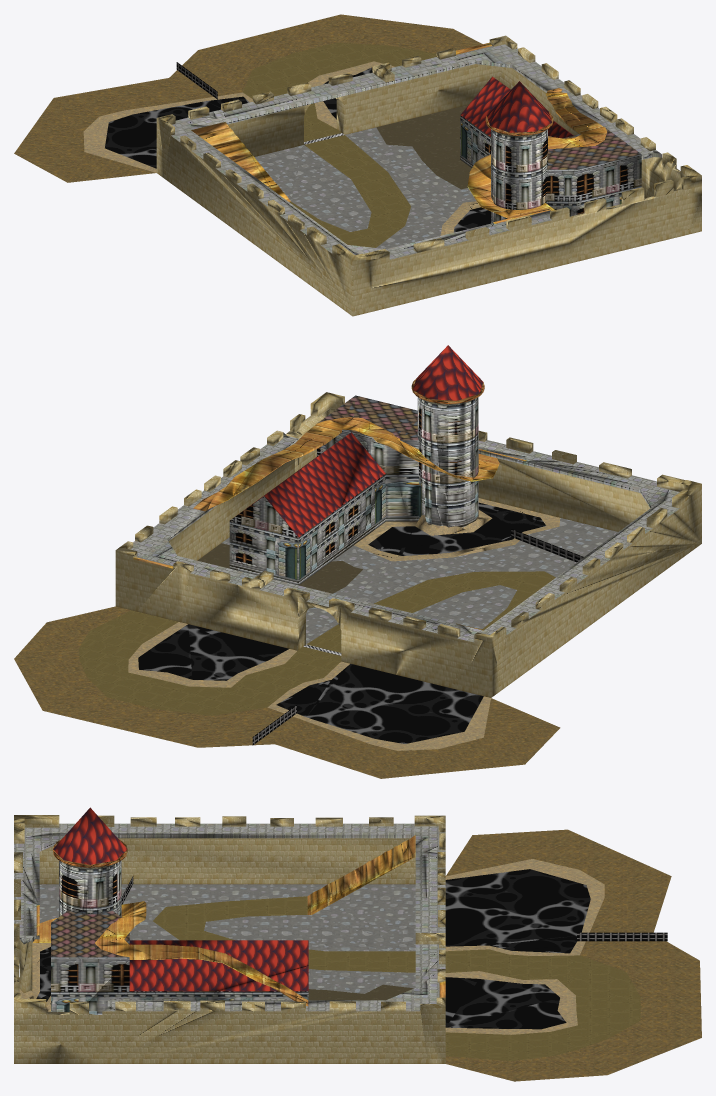
3 views of the same model, one above another, from view 1: azimuth 30°, elevation 25°; view 2: azimuth 150°, elevation 25°; view 3: azimuth 270°, elevation 25° (orthographic). The views are drawn at different scales.
Parts seen in each view (by area): view 1: polygon3.026, polygon179.002, polygon1.029, polygon146.003, polygon144.002, polygon44.003, polygon9.024, polygon145.003, polygon23.014, polygon2.023, polygon13.026, polygon147.002; view 2: polygon3.026, polygon179.002, polygon44.003, polygon23.014, polygon144.002, polygon1.029, polygon146.003, polygon2.023, polygon13.026, polygon9.024, polygon147.002, polygon145.003; view 3: polygon3.026, polygon179.002, polygon144.002, polygon23.014, polygon1.029, polygon146.003, polygon2.023, polygon44.003, polygon9.024, polygon13.026, polygon147.002, polygon145.003 (+1 smaller).
Boxes of the visible parts, box(x1,y1,x2,y2) form: polygon3.026: box(156, 35, 701, 316); polygon179.002: box(14, 14, 482, 182); polygon1.029: box(254, 127, 476, 248); polygon146.003: box(171, 44, 661, 259); polygon144.002: box(243, 42, 436, 247); polygon44.003: box(460, 112, 641, 223); polygon9.024: box(191, 88, 606, 218); polygon145.003: box(376, 105, 471, 189); polygon23.014: box(105, 67, 490, 232); polygon2.023: box(460, 76, 573, 138); polygon13.026: box(83, 61, 480, 235); polygon147.002: box(547, 128, 640, 169); polygon3.026: box(115, 392, 701, 697); polygon179.002: box(14, 606, 560, 778); polygon44.003: box(229, 379, 484, 585); polygon23.014: box(138, 502, 545, 743); polygon144.002: box(79, 571, 555, 715); polygon1.029: box(221, 518, 617, 644); polygon146.003: box(130, 432, 679, 642); polygon2.023: box(235, 345, 483, 537); polygon13.026: box(128, 498, 560, 750); polygon9.024: box(193, 417, 499, 630); polygon147.002: box(317, 395, 418, 440); polygon145.003: box(197, 543, 362, 593); polygon3.026: box(14, 815, 445, 1063); polygon179.002: box(445, 829, 701, 1081); polygon144.002: box(153, 896, 640, 1061); polygon23.014: box(36, 869, 590, 1029); polygon1.029: box(39, 884, 415, 993); polygon146.003: box(14, 823, 445, 1011); polygon2.023: box(53, 807, 308, 991); polygon44.003: box(51, 839, 308, 1014); polygon9.024: box(32, 835, 415, 1006); polygon13.026: box(19, 859, 604, 1034); polygon147.002: box(51, 910, 129, 957); polygon145.003: box(308, 984, 413, 1000).
Size of what is drawn, in the model's own units: 59070 by 19768 by 68159.
14 materials, 14 textured.
